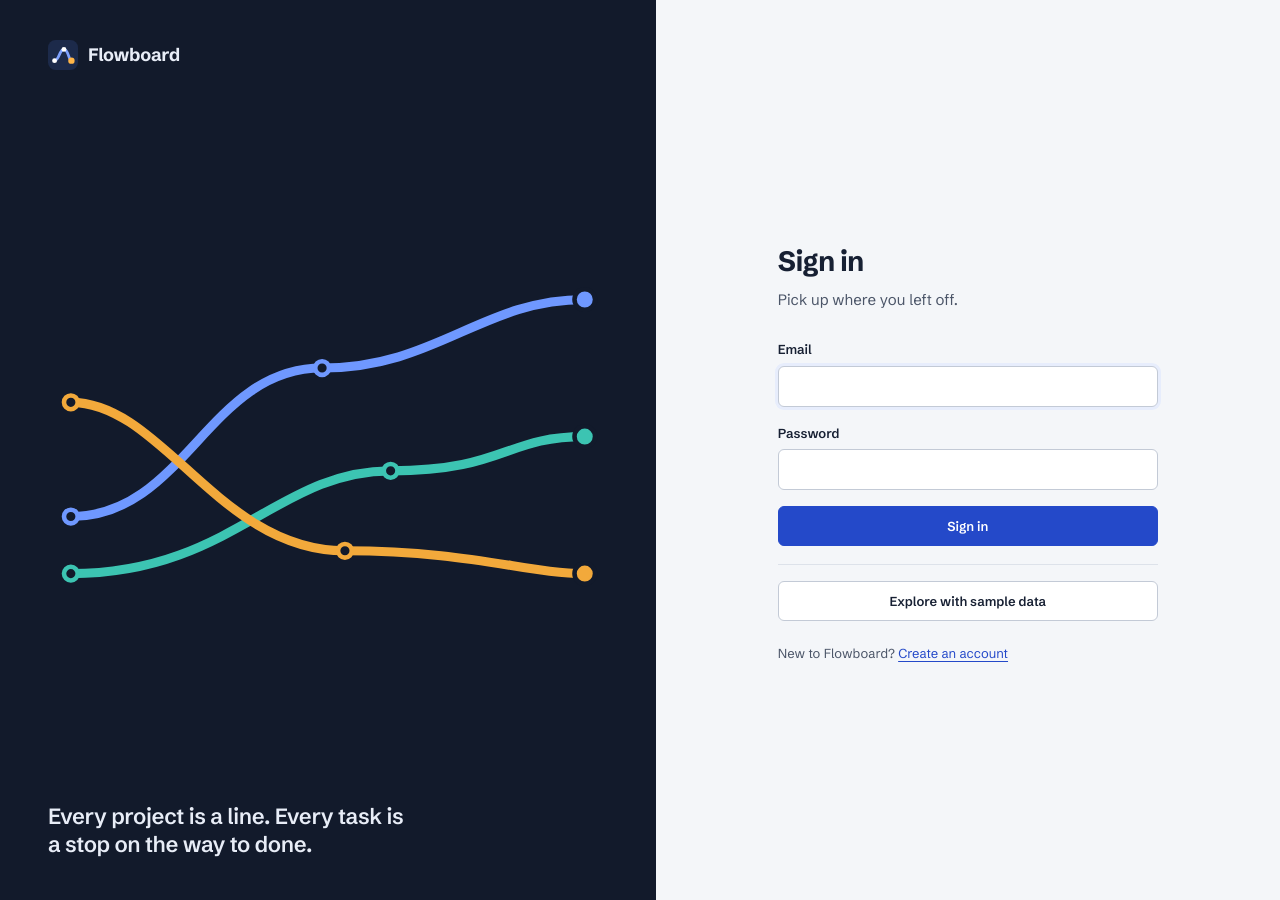
Test case: projects and tasks › filters the board and the My tasks list
Click the button "Explore with sample data": click(968, 601) [778,581,1158,621]
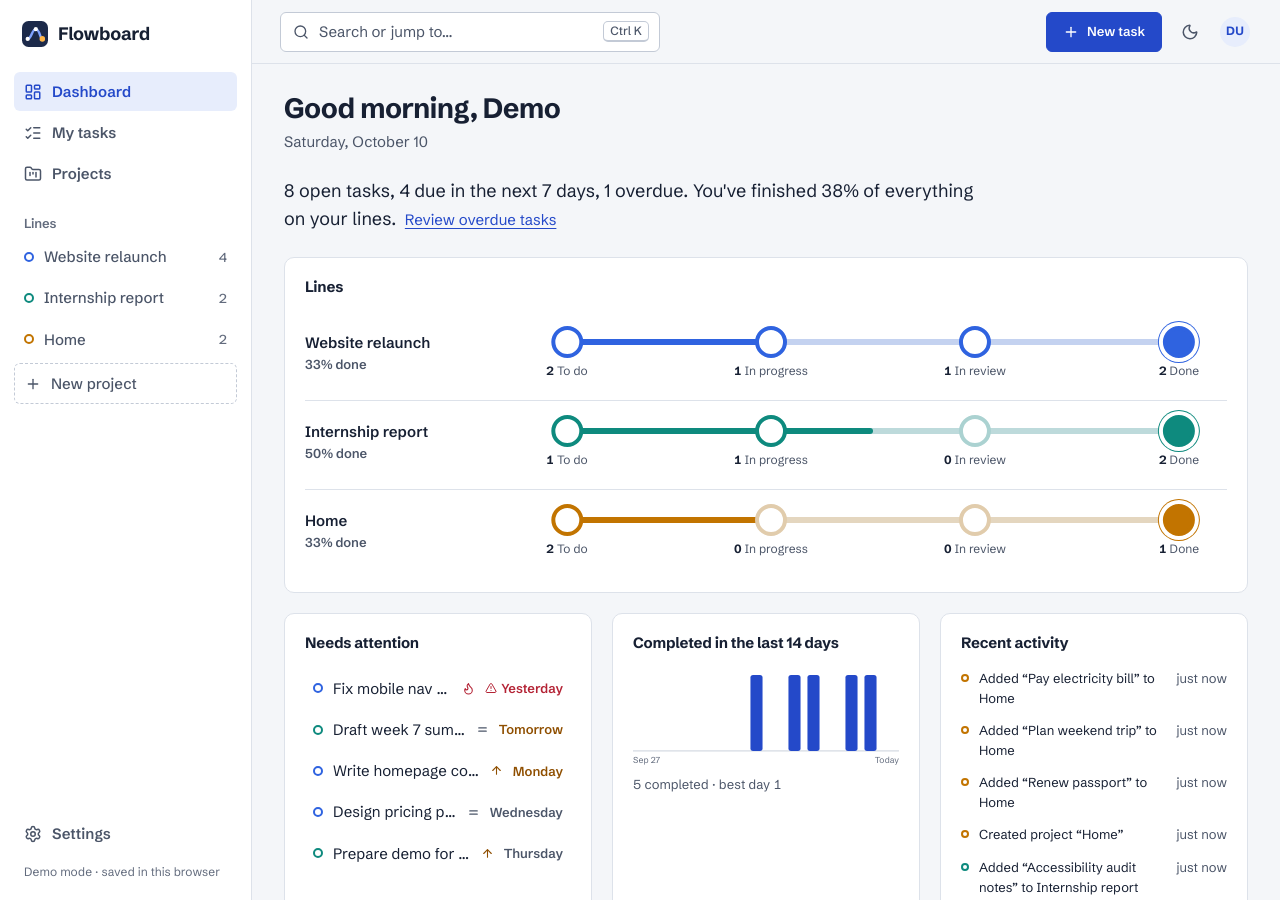
Now the element "Lines" is shown, box [284,257,1248,593]
Click the link "Website relaunch 33% done": click(368, 353) [305,333,430,372]
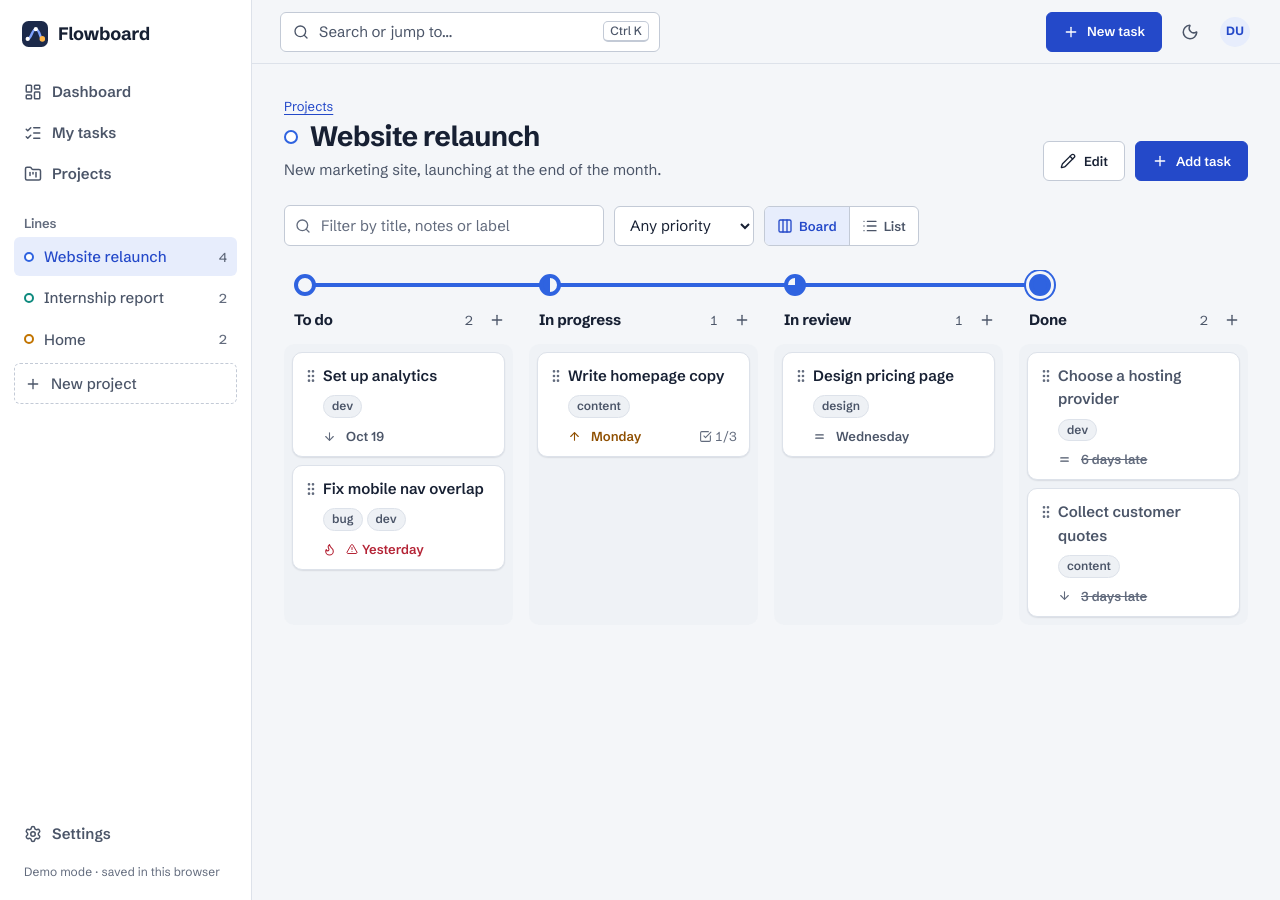
Now the element "To do" is shown, box [284,274,513,625]
In the search field named "Filter tasks": (444, 226) [284,205,604,246], type "nav"
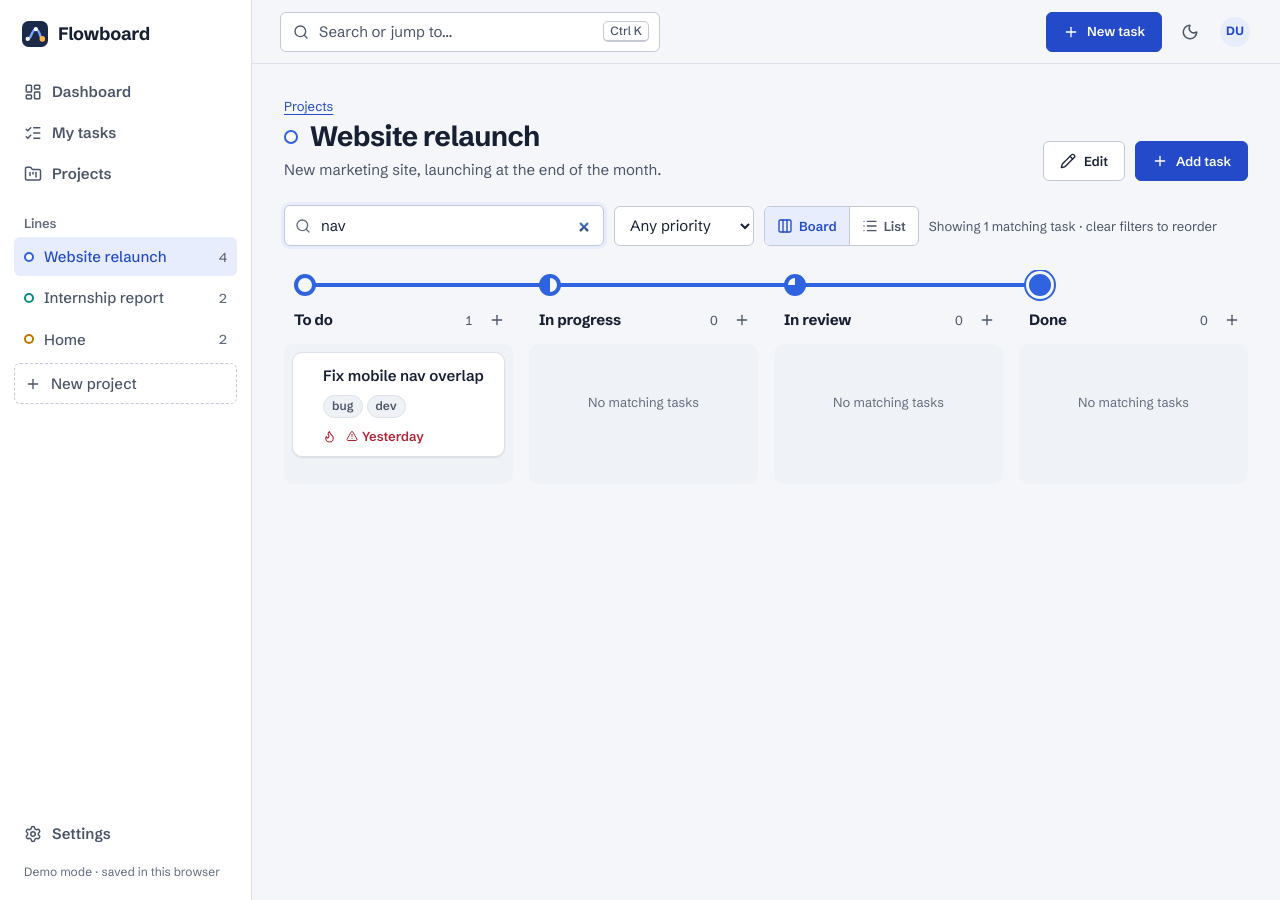
Now the text "Showing 1 matching task · clear filters to reorder" is shown, box [929,216,1217,236]
Click the link "My tasks": click(70, 133) [24,123,116,142]
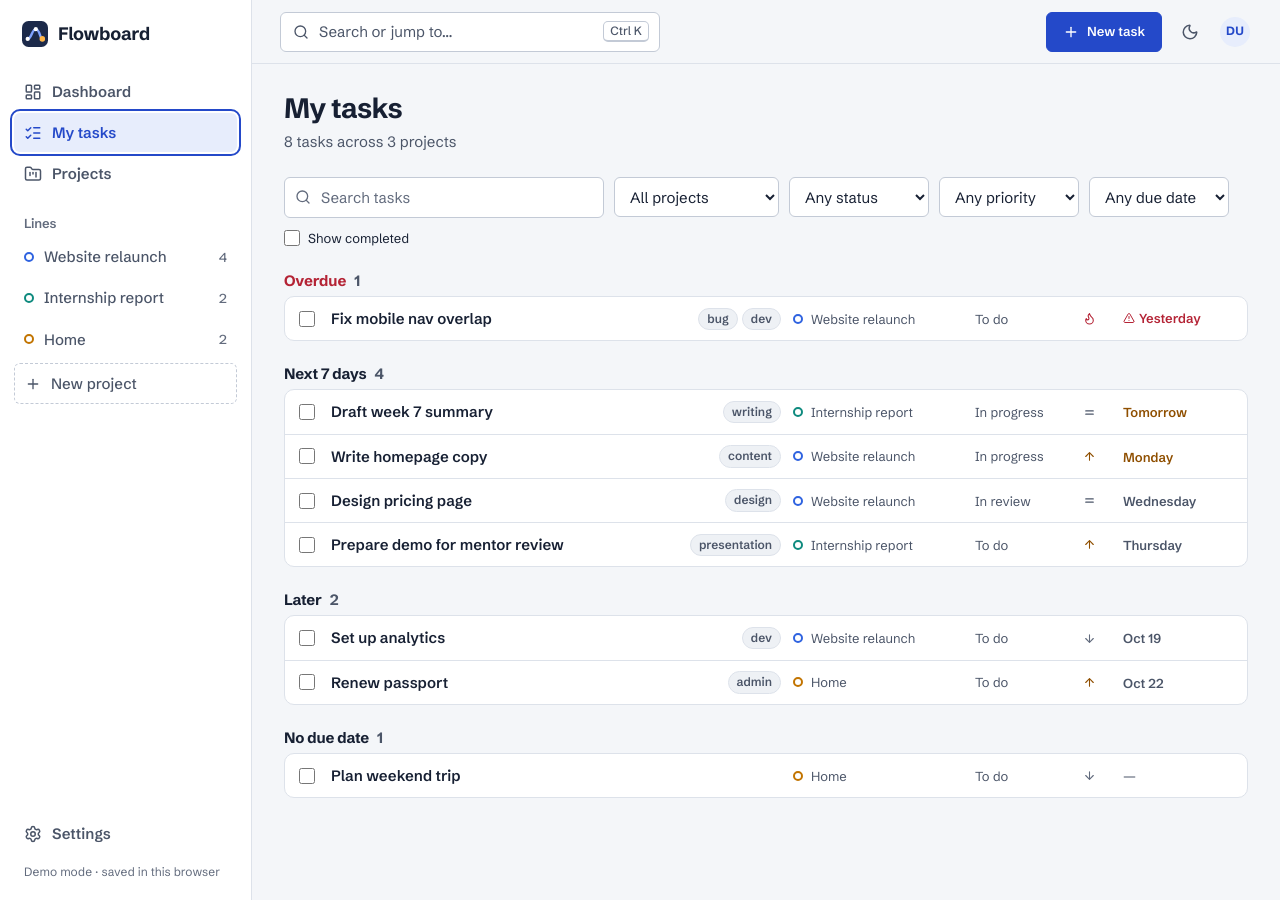
Now the heading "Overdue 1" is shown, box [284,271,360,290]
Select "Urgent" in the 3rd dropdown named "Priority": (1009, 198) [939,178,1079,218]
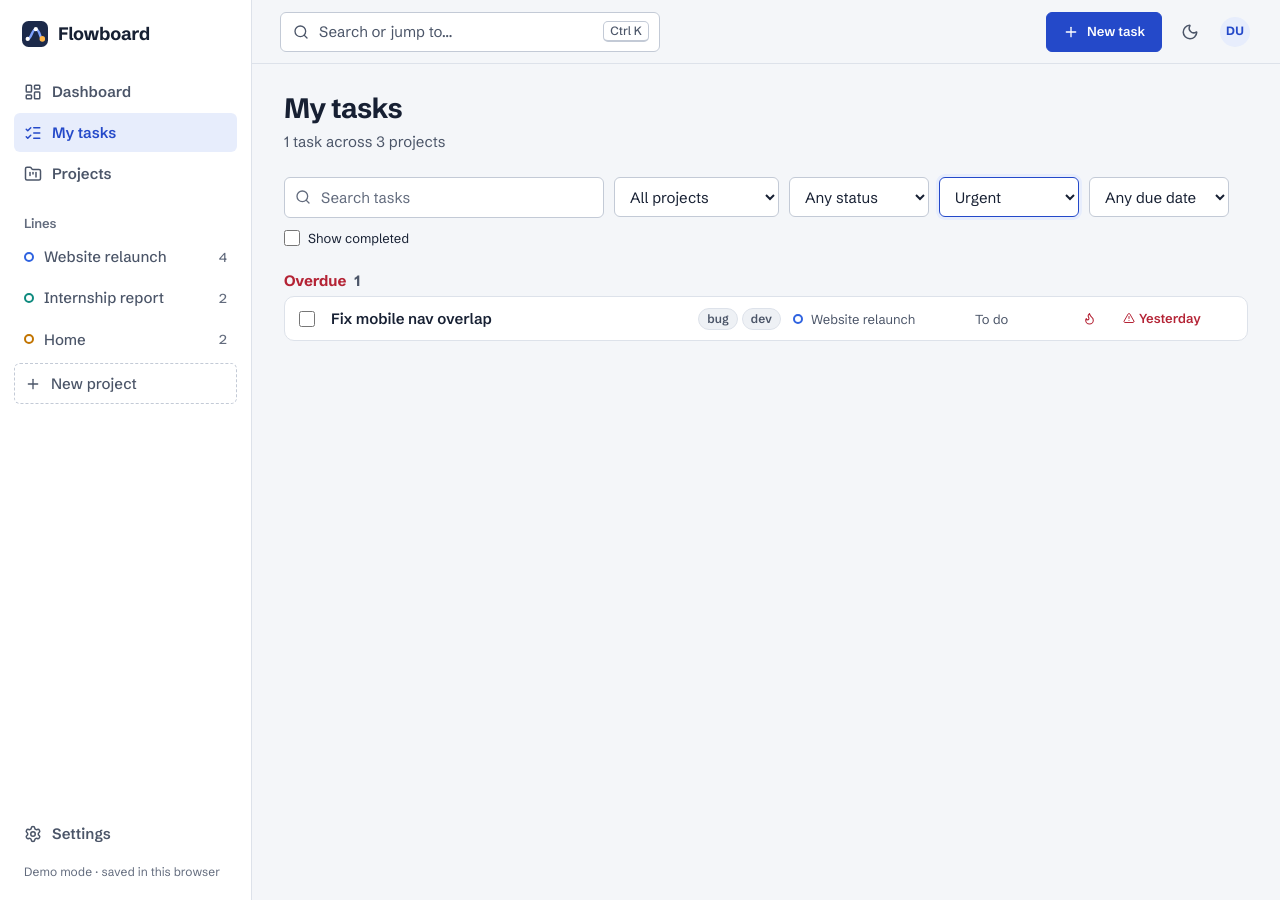
Now the number of checkboxes named "Complete" is 1
Click the checkbox named "Complete “Fix mobile nav overlap”": click(307, 319) [299,311,315,327]
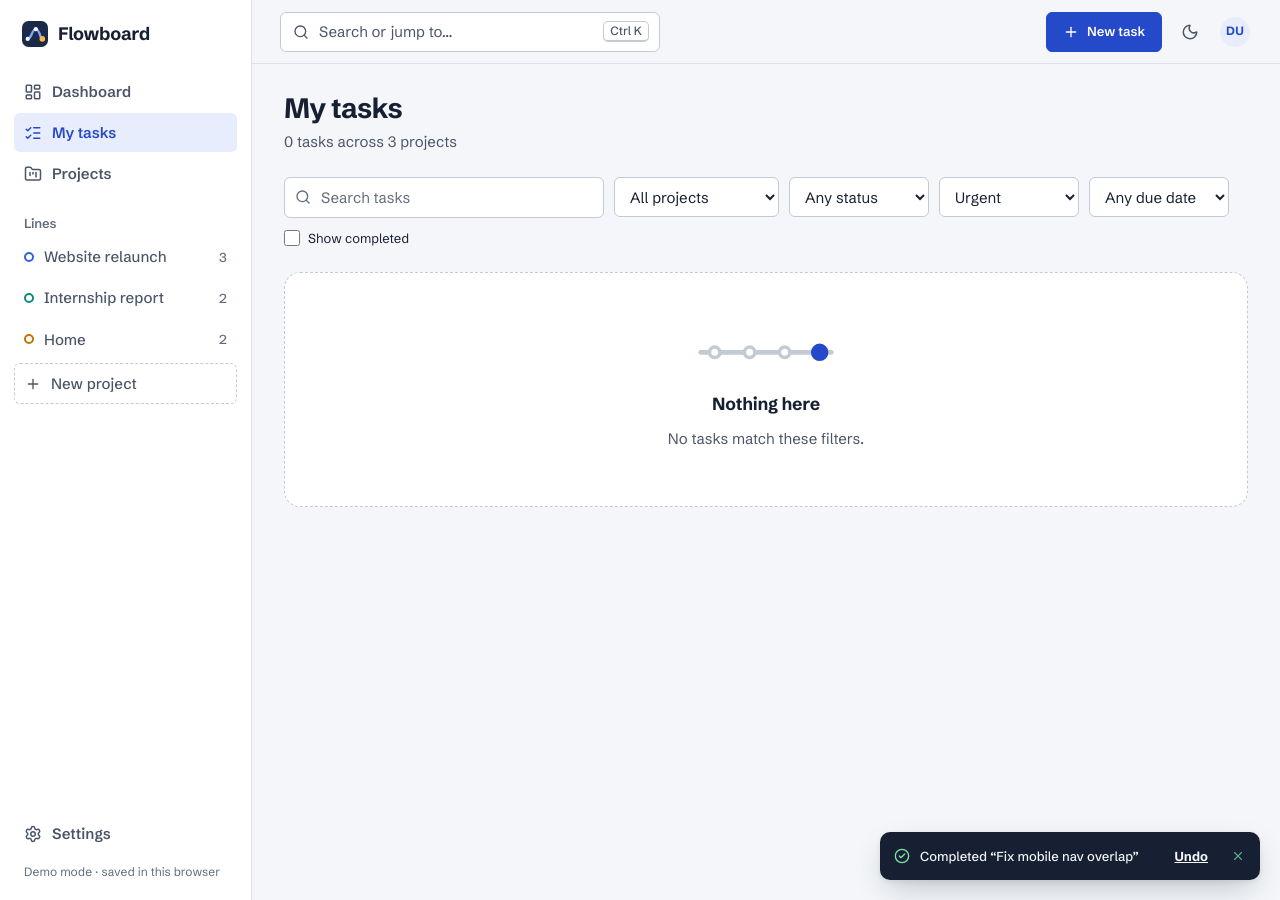
Now the text "Completed “Fix mobile nav overlap”" is shown, box [920,846,1158,866]
